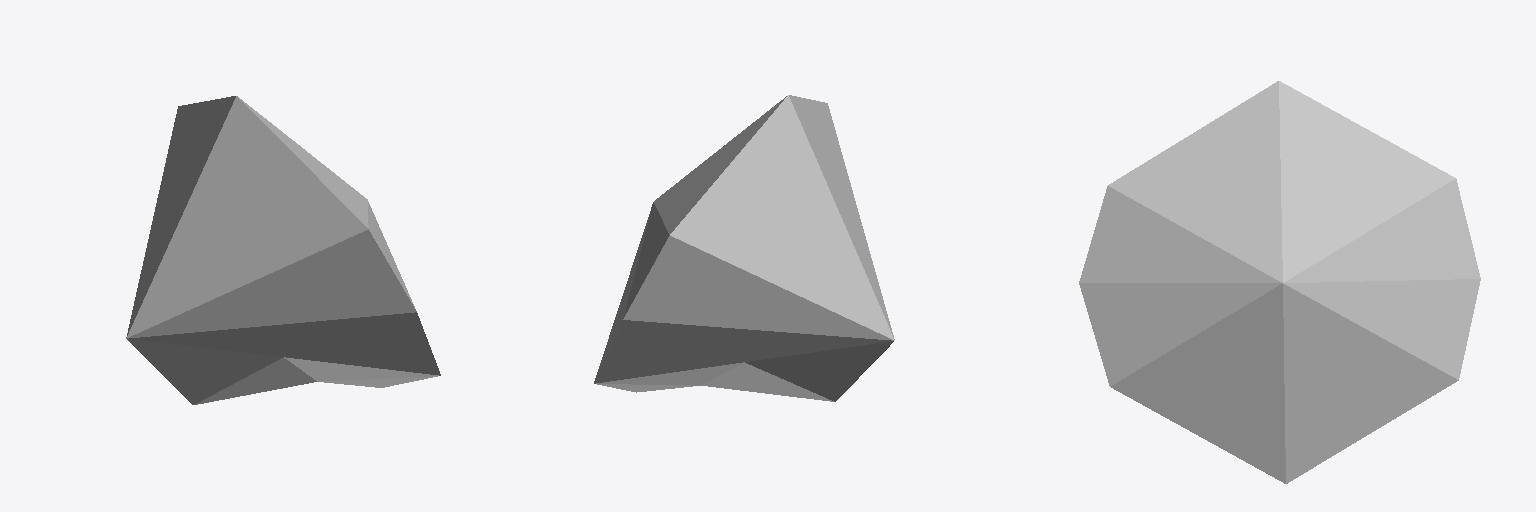
Rendered from satellite_collisionbox.obj.
3 views of the same model, side by side, from view 1: azimuth 30°, elevation 25°; view 2: azimuth 150°, elevation 25°; view 3: azimuth 270°, elevation 25° (orthographic).
Visible parts, largest first — view 1: Cone; view 2: Cone; view 3: Cone.
Boxes of the visible parts, <box> form: Cone: <box>126,96,440,404</box>; Cone: <box>594,95,894,401</box>; Cone: <box>1079,81,1480,483</box>.
Size of the model in its own units: 0.0731 by 0.0901 by 0.099.